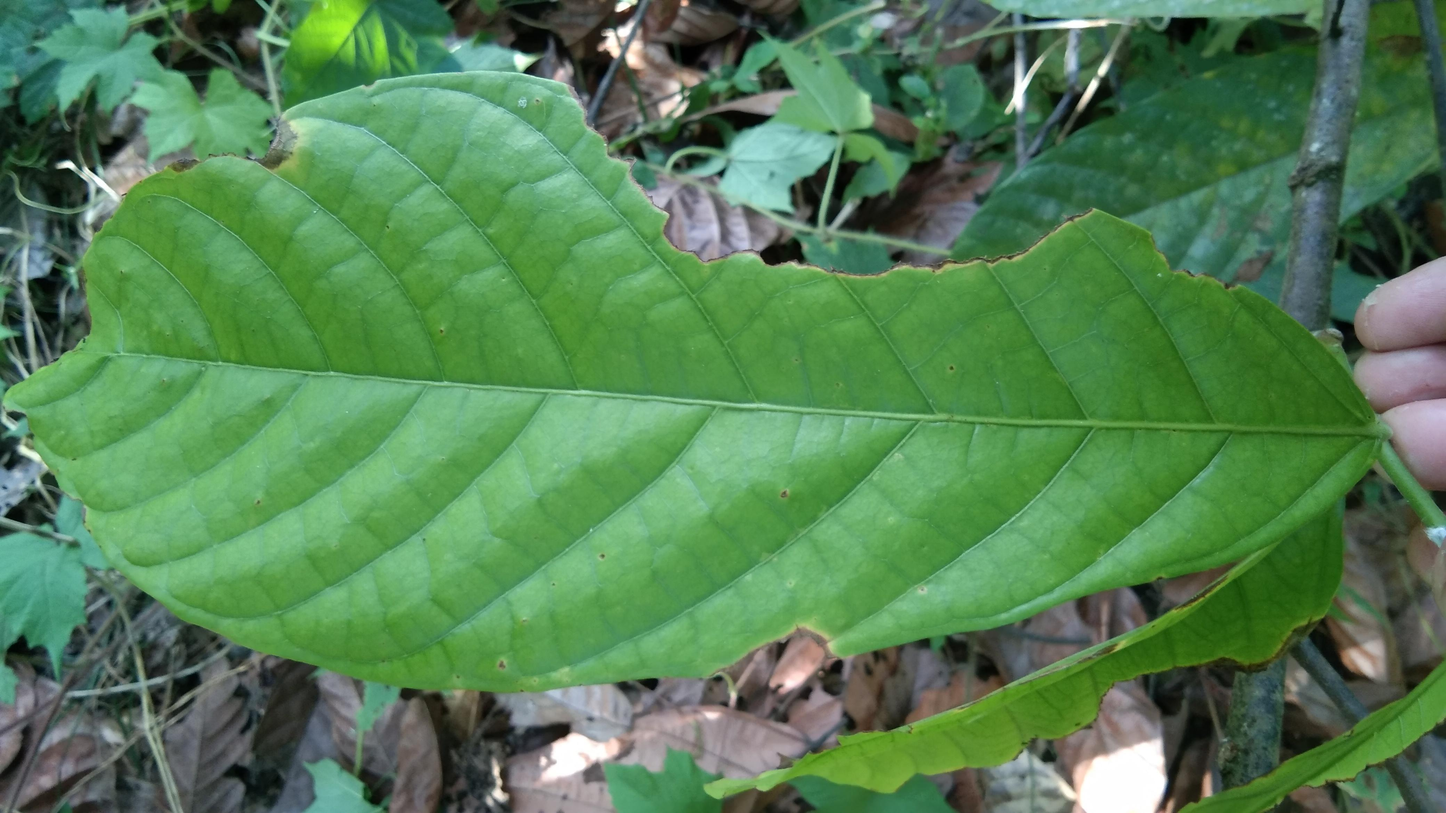deficiencia_potasio: (10, 75, 1382, 700)
